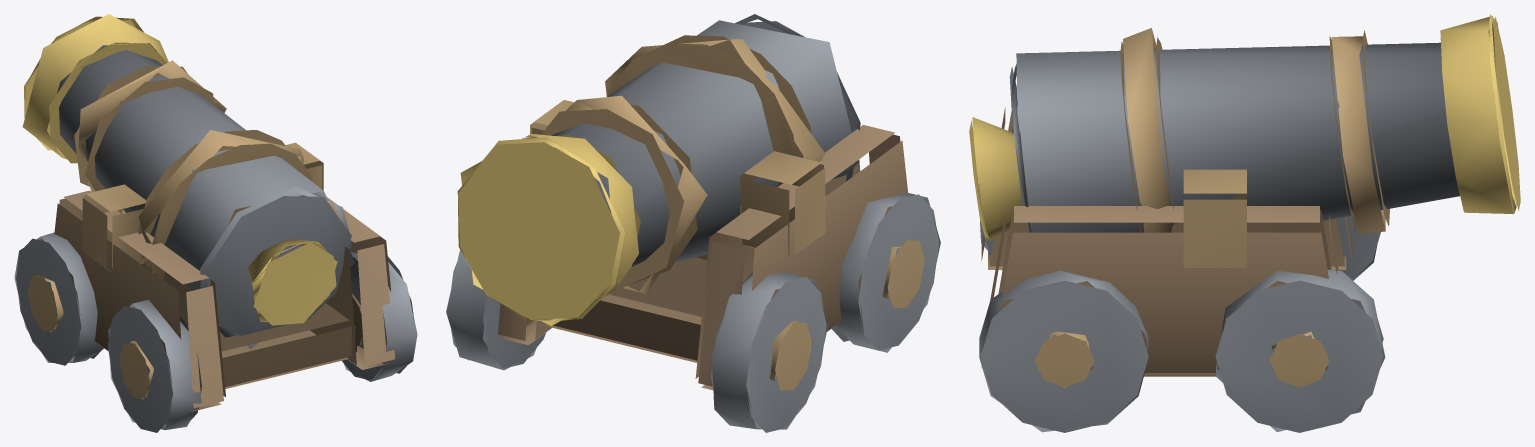
Rendered from ink_cannon_turret_lod2.glb.
3 views of the same model, side by side, from view 1: azimuth 30°, elevation 25°; view 2: azimuth 150°, elevation 25°; view 3: azimuth 270°, elevation 25° (orthographic). The views are drawn at different scales.
Visible parts, largest first — view 1: ink_cannon_turret.001; view 2: ink_cannon_turret.001; view 3: ink_cannon_turret.001.
Boxes of the visible parts, <box> form: ink_cannon_turret.001: <box>14,14,417,432</box>; ink_cannon_turret.001: <box>446,14,940,432</box>; ink_cannon_turret.001: <box>969,14,1520,432</box>.
Bounding box in the file's own units: 1.25 × 1.23 × 1.83.
